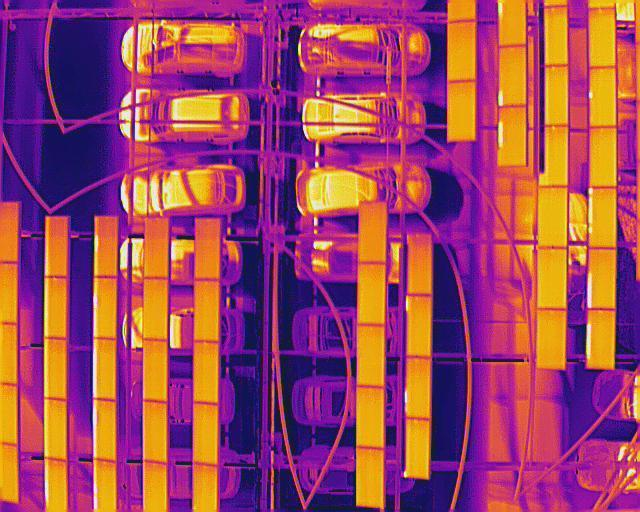panel: (446, 80, 477, 144), (357, 260, 386, 326), (539, 186, 569, 249), (358, 200, 387, 264), (588, 186, 617, 249), (539, 247, 568, 310), (448, 19, 477, 82), (356, 325, 384, 389), (588, 249, 618, 308), (586, 310, 616, 369), (590, 127, 619, 188), (499, 106, 527, 169), (404, 356, 432, 419), (588, 67, 617, 127), (499, 44, 526, 108), (537, 311, 566, 370), (406, 294, 433, 357), (142, 339, 169, 402), (357, 387, 384, 450), (144, 276, 170, 341), (194, 341, 220, 406), (588, 9, 616, 68), (144, 218, 171, 279), (357, 448, 384, 509), (196, 218, 222, 281), (194, 281, 221, 341), (93, 217, 118, 280), (407, 231, 432, 294), (144, 401, 169, 464), (93, 278, 118, 340), (45, 278, 69, 339), (93, 339, 117, 400), (545, 66, 569, 127), (405, 420, 430, 478), (545, 5, 568, 68), (193, 404, 217, 464), (44, 338, 67, 400), (544, 127, 568, 186), (45, 216, 68, 277), (45, 398, 68, 459), (94, 400, 115, 463), (45, 459, 68, 512), (144, 462, 167, 512), (195, 464, 218, 512), (94, 460, 114, 512), (0, 1, 0, 1)
